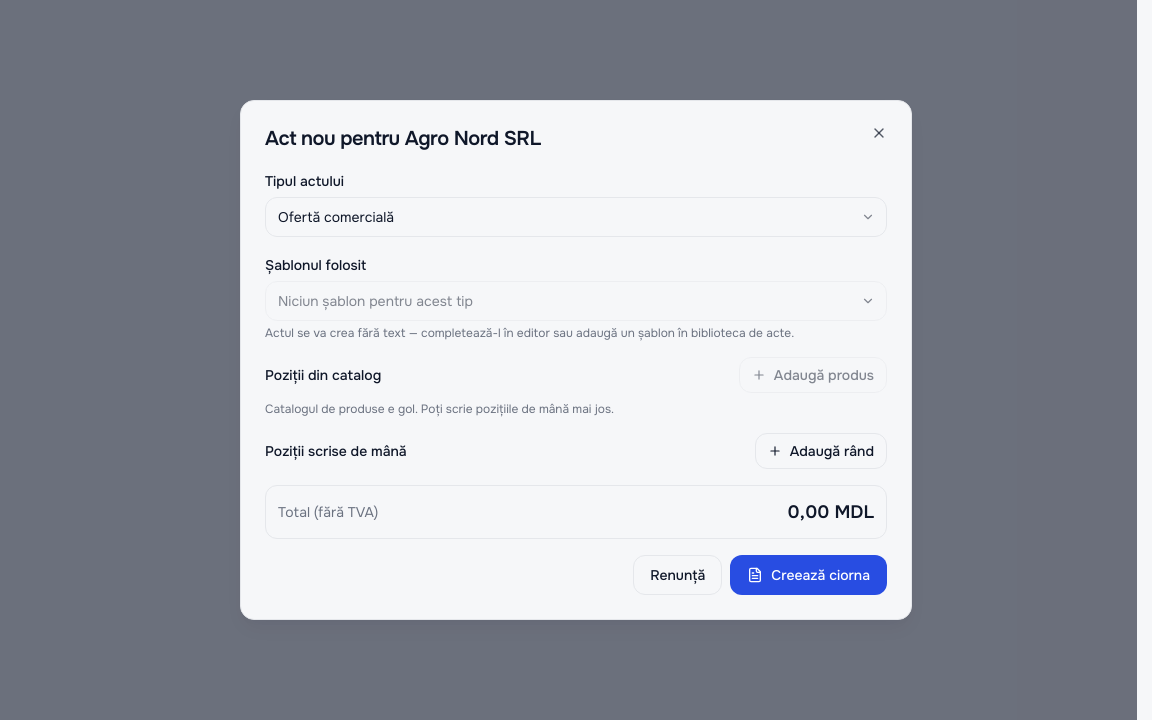
it: Act nou dintr-un lead › „în baza” apare doar la contract, nu la ofertă — o ofertă nu se face în baza nimănui
The image size is (1152, 720).
Expected: the field labelled "în baza" is not shown
Select "Contract" in the dropdown labelled "Tipul actului": point(576, 217) [265,197,887,237]
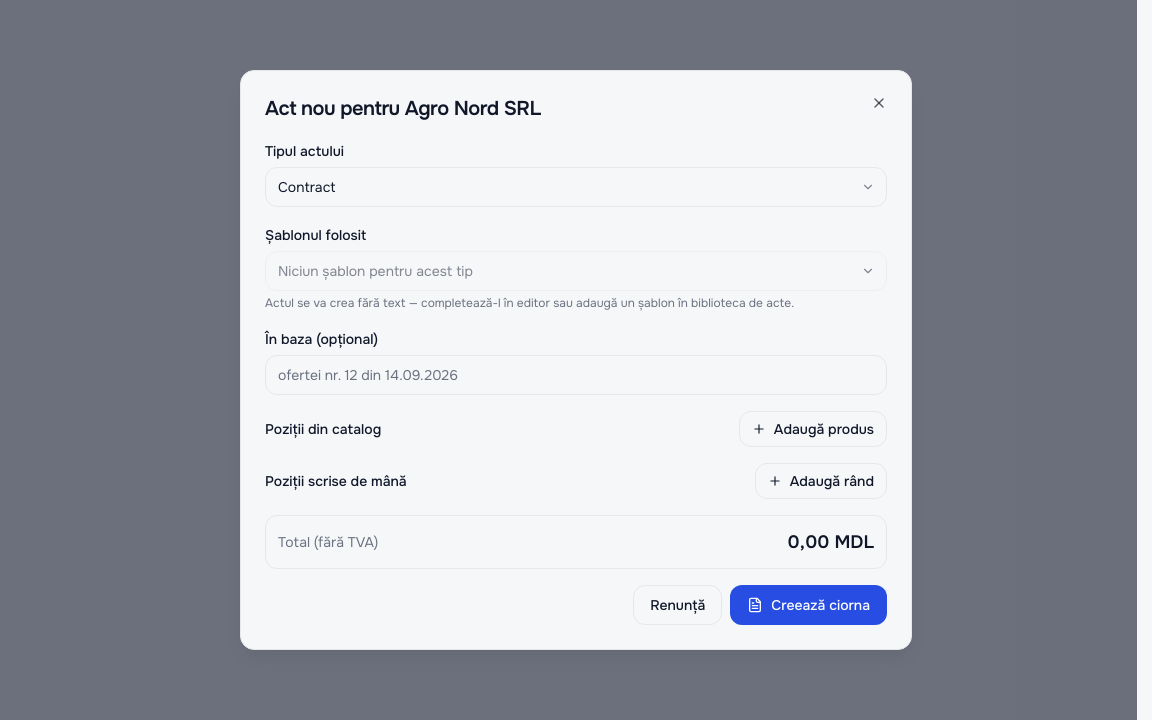
Result: the field labelled "În baza (opțional)" is shown at [265,355,887,395]
